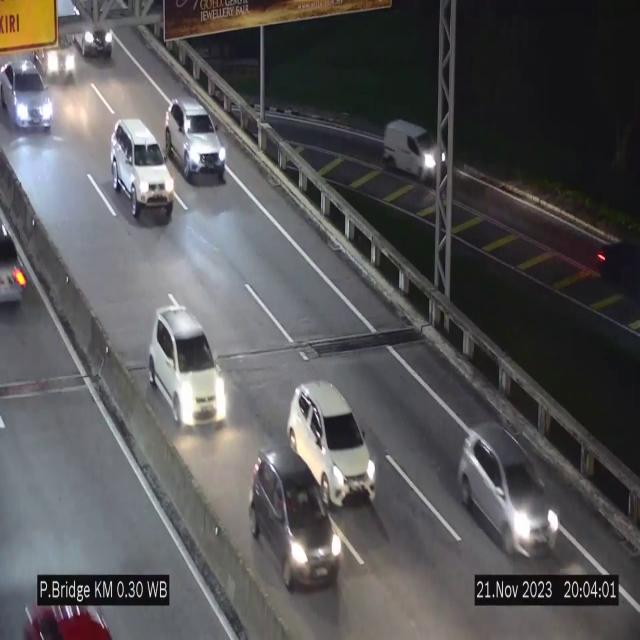Car: (456, 410, 564, 566), (257, 447, 339, 597), (288, 381, 376, 504), (149, 306, 227, 426), (378, 99, 452, 202), (110, 119, 174, 221), (166, 99, 226, 181), (0, 199, 32, 322), (1, 58, 53, 130), (69, 0, 115, 61), (31, 17, 73, 77)
